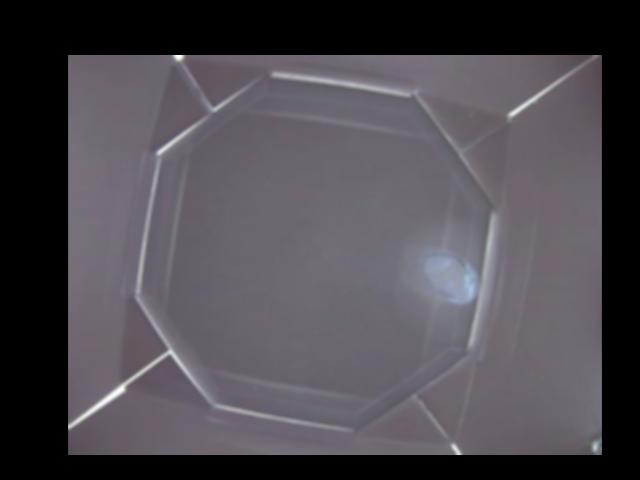Pebble: (424, 249, 480, 310)
